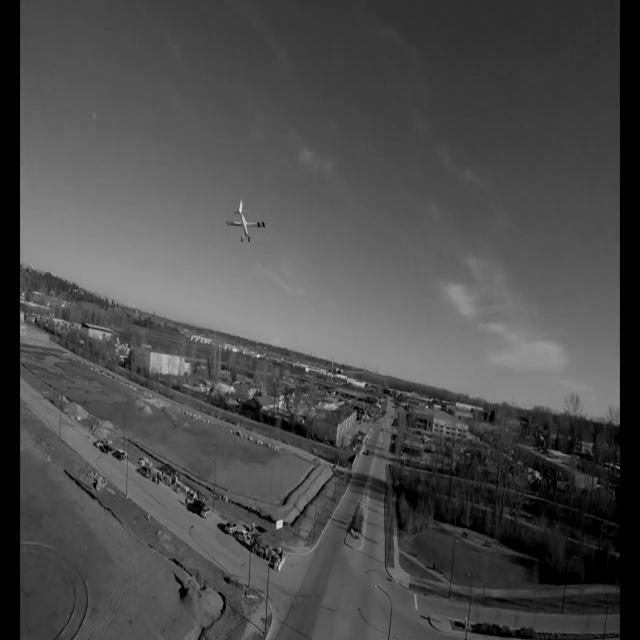iha: (230, 199, 264, 243)
